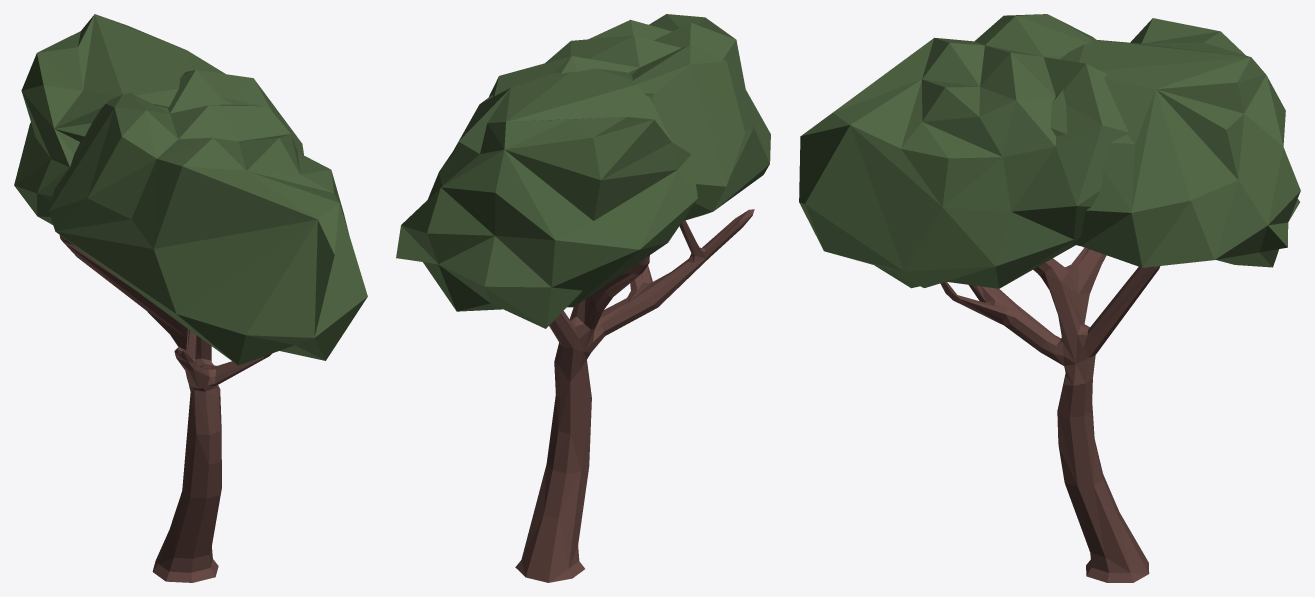
The model's file is CommonTree_5.glb.
3 renders of one model, left to right at view 1: azimuth 30°, elevation 25°; view 2: azimuth 150°, elevation 25°; view 3: azimuth 270°, elevation 25°, orthographic. The views are drawn at different scales.
Visible parts, largest first — view 1: CommonTree_5; view 2: CommonTree_5; view 3: CommonTree_5.
Part boxes in pixels (left/top/right/bottom): CommonTree_5: left=14, top=14, right=367, bottom=582; CommonTree_5: left=396, top=14, right=770, bottom=582; CommonTree_5: left=799, top=14, right=1300, bottom=582.
Size of the model in its own units: 1.29 by 2.52 by 2.25.
